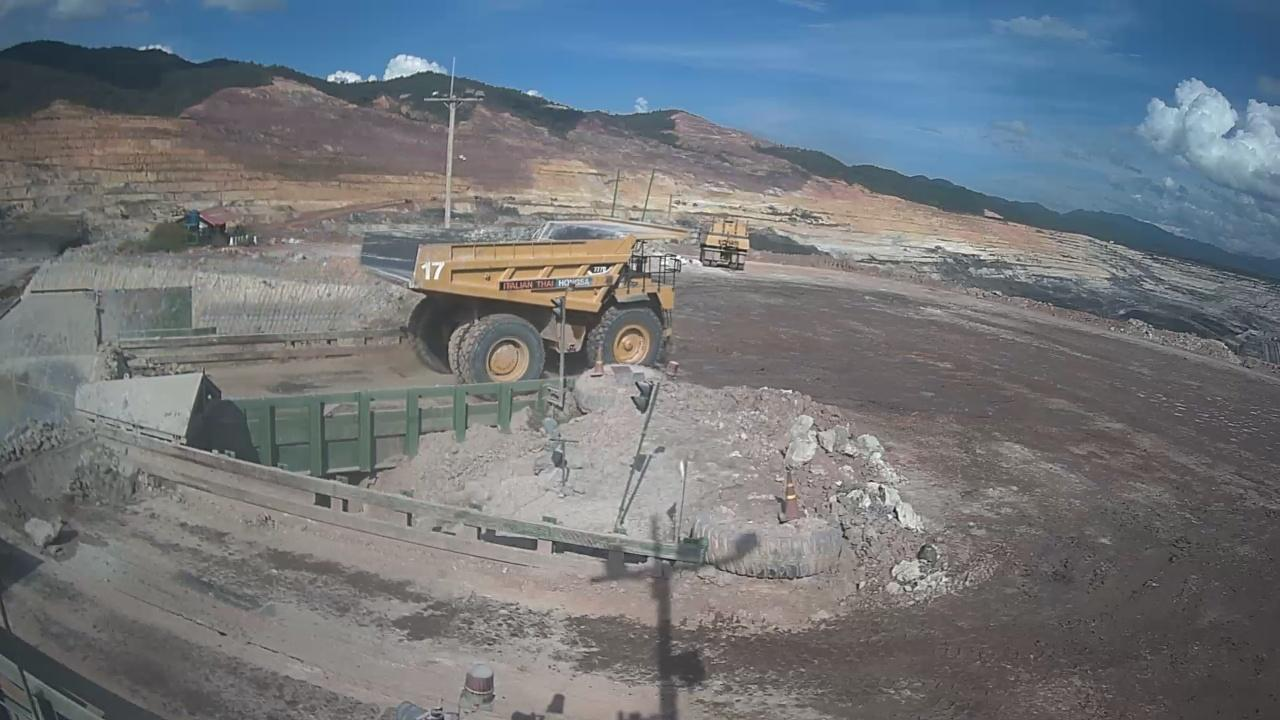company: (490, 277, 602, 296)
empty_load: (438, 216, 637, 248)
mining_truck: (353, 201, 683, 397)
tail_number: (417, 259, 450, 283)
truck_size: (588, 258, 613, 279)
